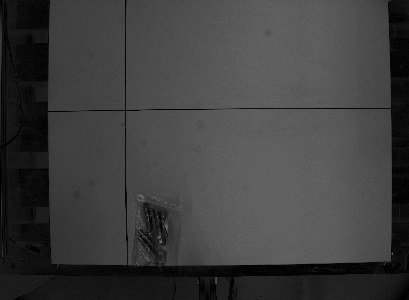t2: (129, 189, 183, 272)
